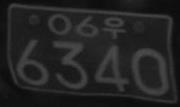0: (130, 46, 168, 97), (47, 12, 72, 36)
3: (52, 39, 88, 89)
4: (94, 44, 129, 92)
6: (15, 39, 49, 87), (75, 14, 99, 38)
우: (101, 15, 126, 38)
